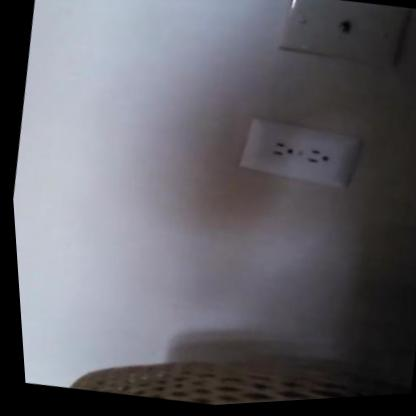OUTLET: (233, 110, 359, 196)
